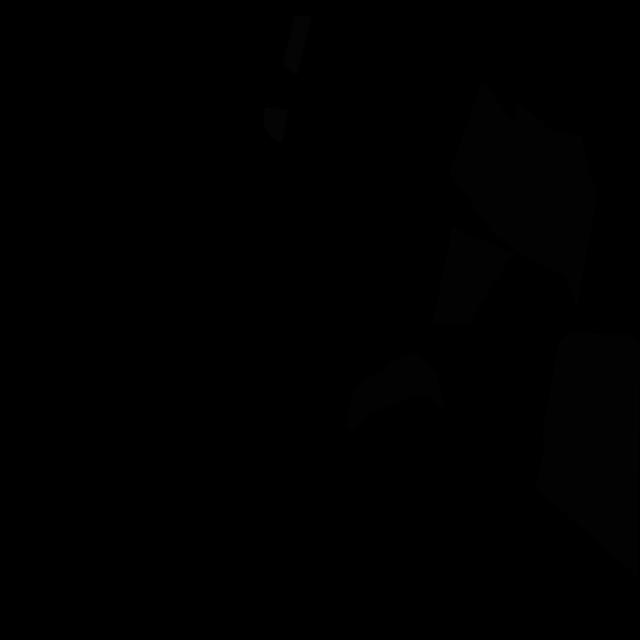cardboard: (450, 81, 598, 307), (536, 330, 640, 577), (432, 226, 515, 323), (346, 351, 445, 431)
soft_plastic: (283, 15, 312, 76), (263, 107, 288, 143)
